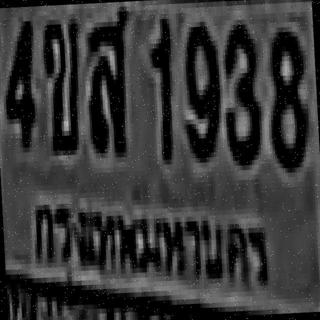A02: (38, 14, 83, 151)
A40: (81, 4, 131, 152)
N01: (148, 14, 174, 155)
N03: (218, 19, 259, 161)
N04: (0, 13, 36, 146)
N08: (264, 24, 306, 166)
N09: (178, 17, 221, 158)
P04: (25, 172, 280, 310)
